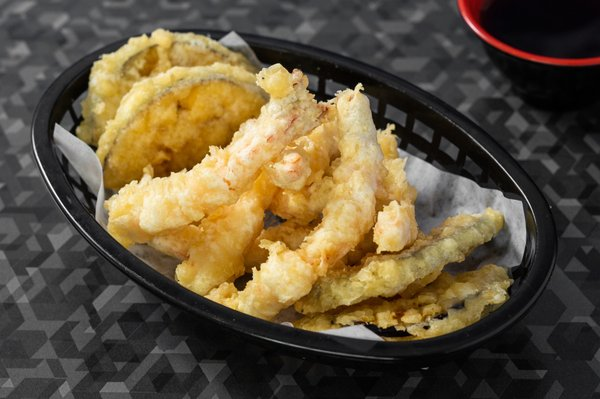pizza: (456, 1, 600, 112)
sushi: (31, 27, 559, 370)
